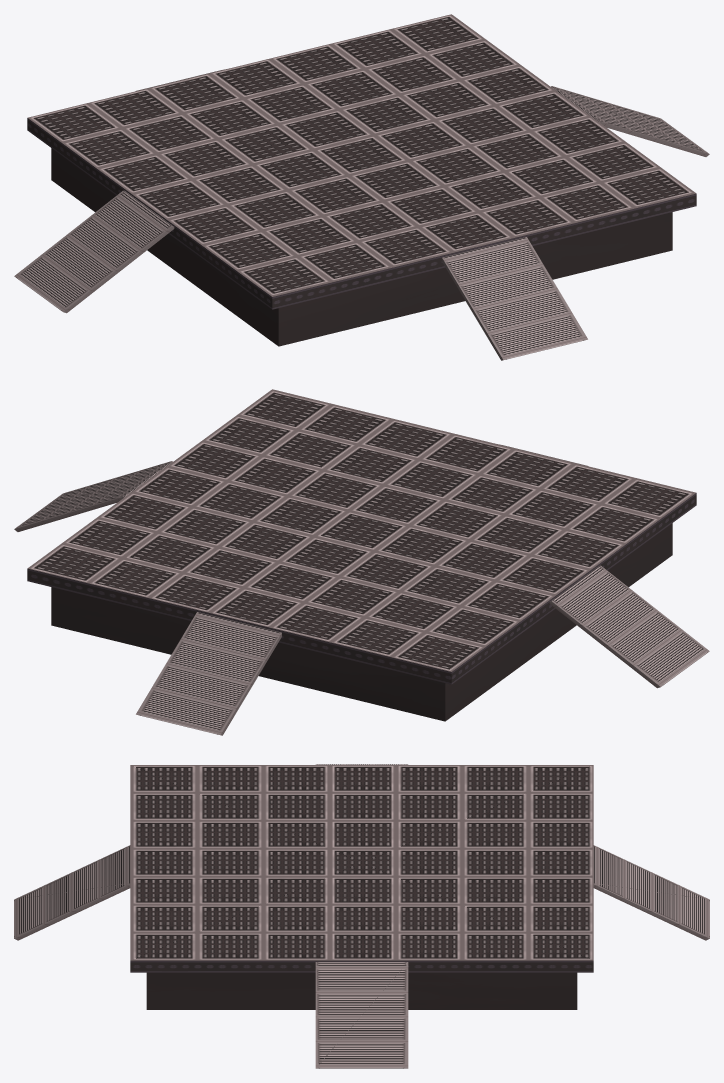
The model's file is Platform_Room1.glb.
3 views of the same model, one above another, from view 1: azimuth 30°, elevation 25°; view 2: azimuth 150°, elevation 25°; view 3: azimuth 270°, elevation 25° (orthographic). The views are drawn at different scales.
Visible parts, largest first — view 1: Cube.005; view 2: Cube.005; view 3: Cube.005.
Part boxes in pixels (<box>): Cube.005: <box>14,14,709,360</box>; Cube.005: <box>14,389,709,735</box>; Cube.005: <box>14,764,709,1068</box>.
Size of the model in its own units: 22.87 by 2.09 by 22.53.
Materials: 3 (3 with a texture image).
